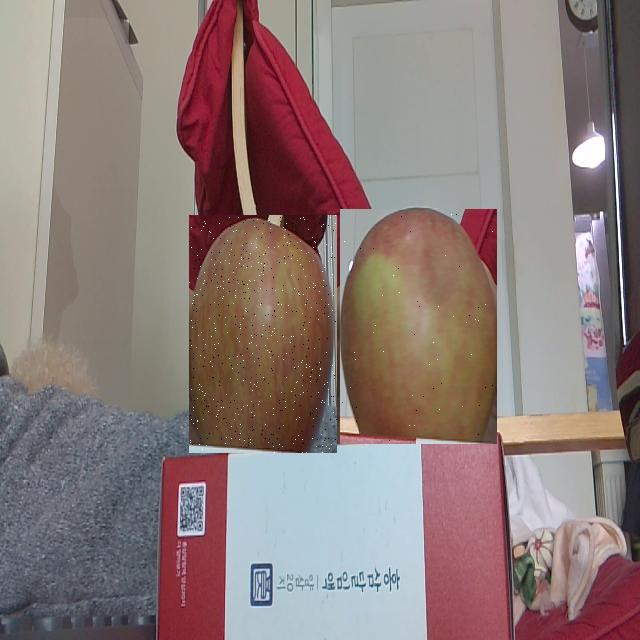apple: (340, 209, 497, 444), (189, 215, 337, 453)
